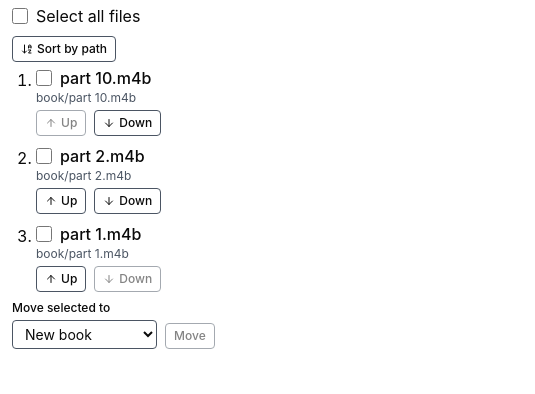
GroupFiles › sorting by path › shows the save alert and reloads the files when the save is rejected
The image size is (535, 394).
Click the button "Sort by path" at (64, 49), box [12,36,116,62]
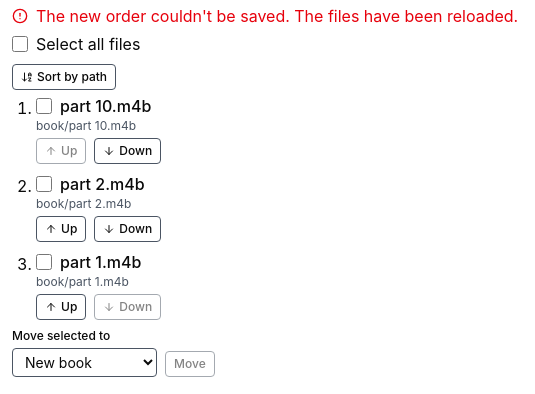
Expected: the message shows "couldn't be saved", [36,6,518,26]
